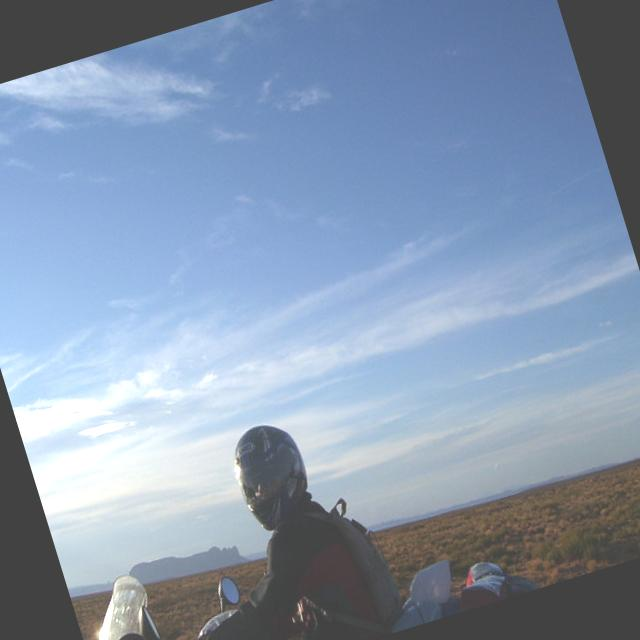Vehicle: (68, 458, 545, 640)
